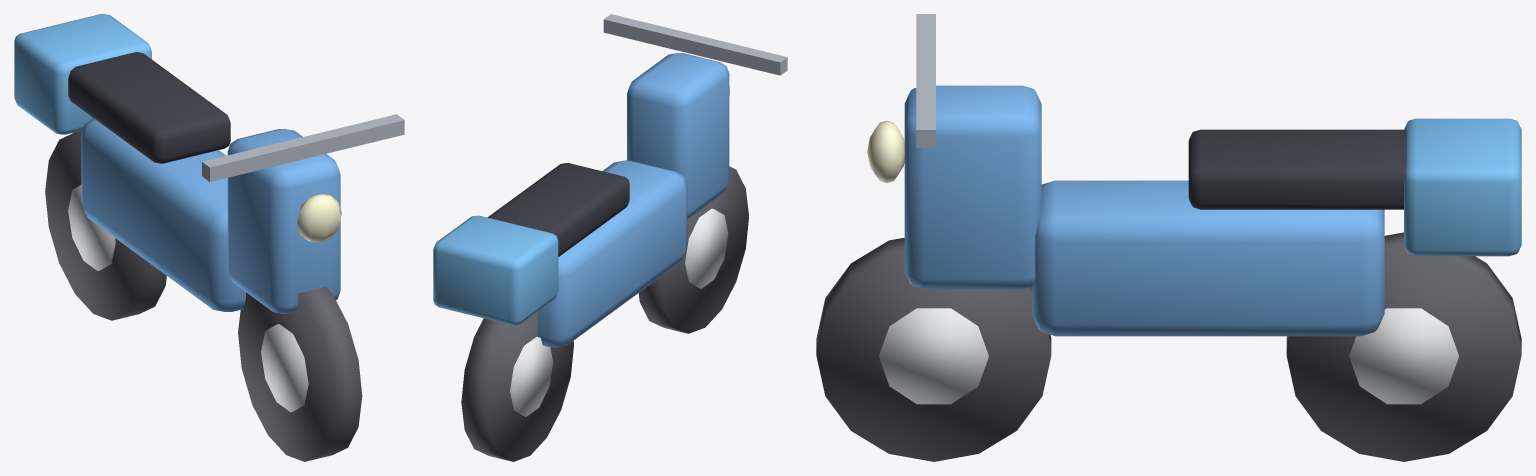
The model's file is Prop_Kapcai2.fbx.
The picture shows the model from 3 angles, left to right: view 1: azimuth 30°, elevation 25°; view 2: azimuth 150°, elevation 25°; view 3: azimuth 270°, elevation 25°; orthographic projection. The views are drawn at different scales.
Visible parts, largest first — view 1: Prop_Kapcai2; view 2: Prop_Kapcai2; view 3: Prop_Kapcai2.
Boxes of the visible parts, x1,y1,x2,y2 form: Prop_Kapcai2: (14,14,404,461); Prop_Kapcai2: (433,14,787,461); Prop_Kapcai2: (816,14,1521,461).
Bounding box in the file's own units: 0.7 × 1.07 × 1.8.
